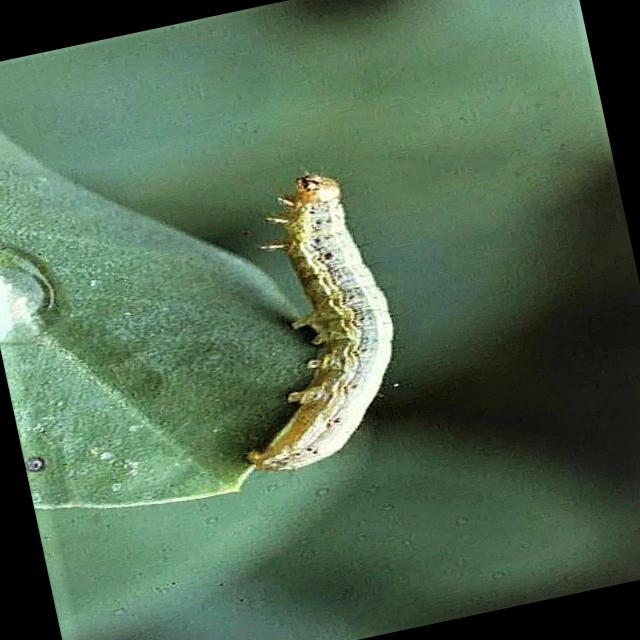Armyworm: (153, 132, 485, 488)
